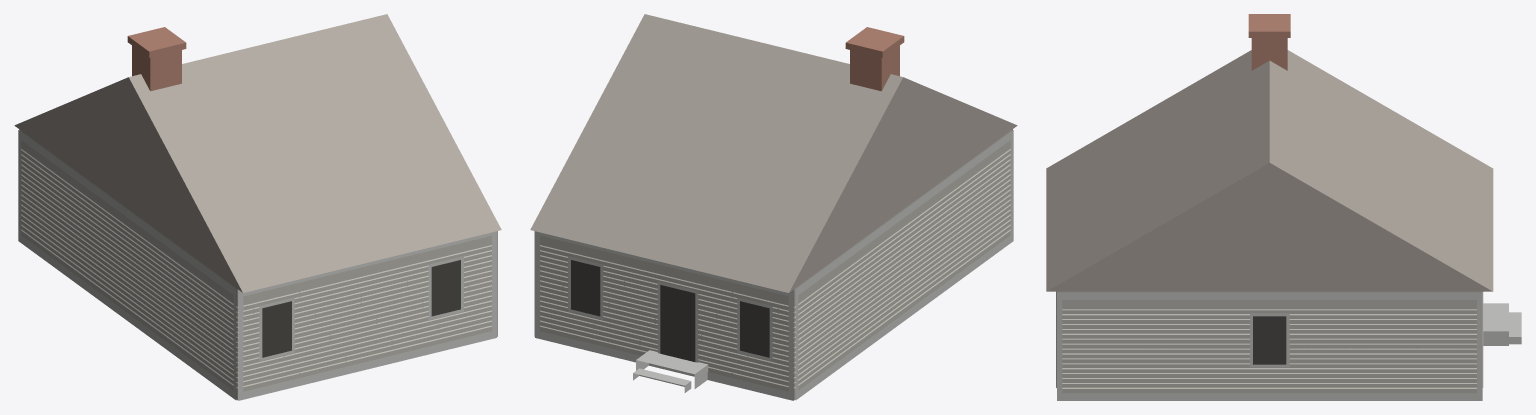
File: recon_1835_blk_south_water_dearborn_d5_07__inferred_1835.glb
The picture shows the model from 3 angles, left to right: view 1: azimuth 30°, elevation 25°; view 2: azimuth 150°, elevation 25°; view 3: azimuth 270°, elevation 25°; orthographic projection. The views are drawn at different scales.
Parts seen in each view (by area): view 1: recon_1835_blk_south_water_dearborn_d5_07__inferred_1835; view 2: recon_1835_blk_south_water_dearborn_d5_07__inferred_1835; view 3: recon_1835_blk_south_water_dearborn_d5_07__inferred_1835.
Boxes of the visible parts, x1,y1,x2,y2 form: recon_1835_blk_south_water_dearborn_d5_07__inferred_1835: [14, 14, 501, 400]; recon_1835_blk_south_water_dearborn_d5_07__inferred_1835: [530, 14, 1017, 400]; recon_1835_blk_south_water_dearborn_d5_07__inferred_1835: [1046, 14, 1521, 400].
Bounding box in the file's own units: 6.91 × 6.93 × 11.15.
